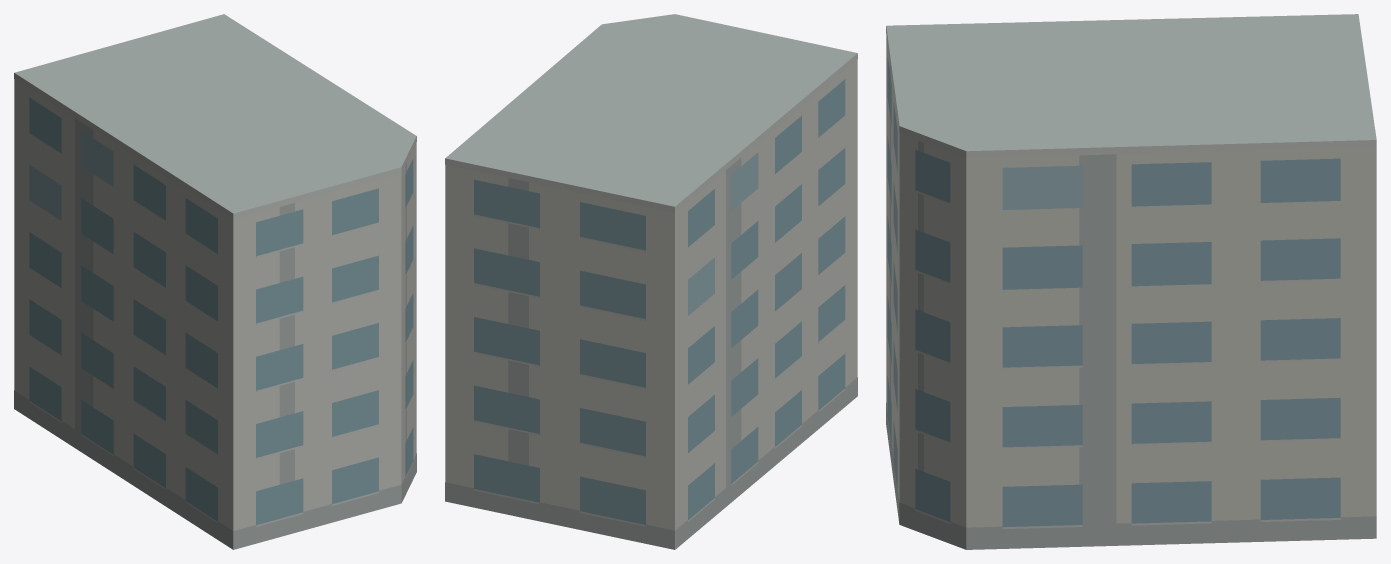
Rendered from survey-upis-32885770.glb.
3 renders of one model, left to right at view 1: azimuth 30°, elevation 25°; view 2: azimuth 150°, elevation 25°; view 3: azimuth 270°, elevation 25°, orthographic. The views are drawn at different scales.
Parts seen in each view (by area): view 1: survey-upis-32885770.tmp; view 2: survey-upis-32885770.tmp; view 3: survey-upis-32885770.tmp.
Part boxes in pixels (x1,y1,x2,y2): survey-upis-32885770.tmp: [14, 14, 416, 549]; survey-upis-32885770.tmp: [445, 14, 857, 549]; survey-upis-32885770.tmp: [886, 14, 1376, 549].
Bounding box in the file's own units: 9.86 × 13.35 × 14.9.
